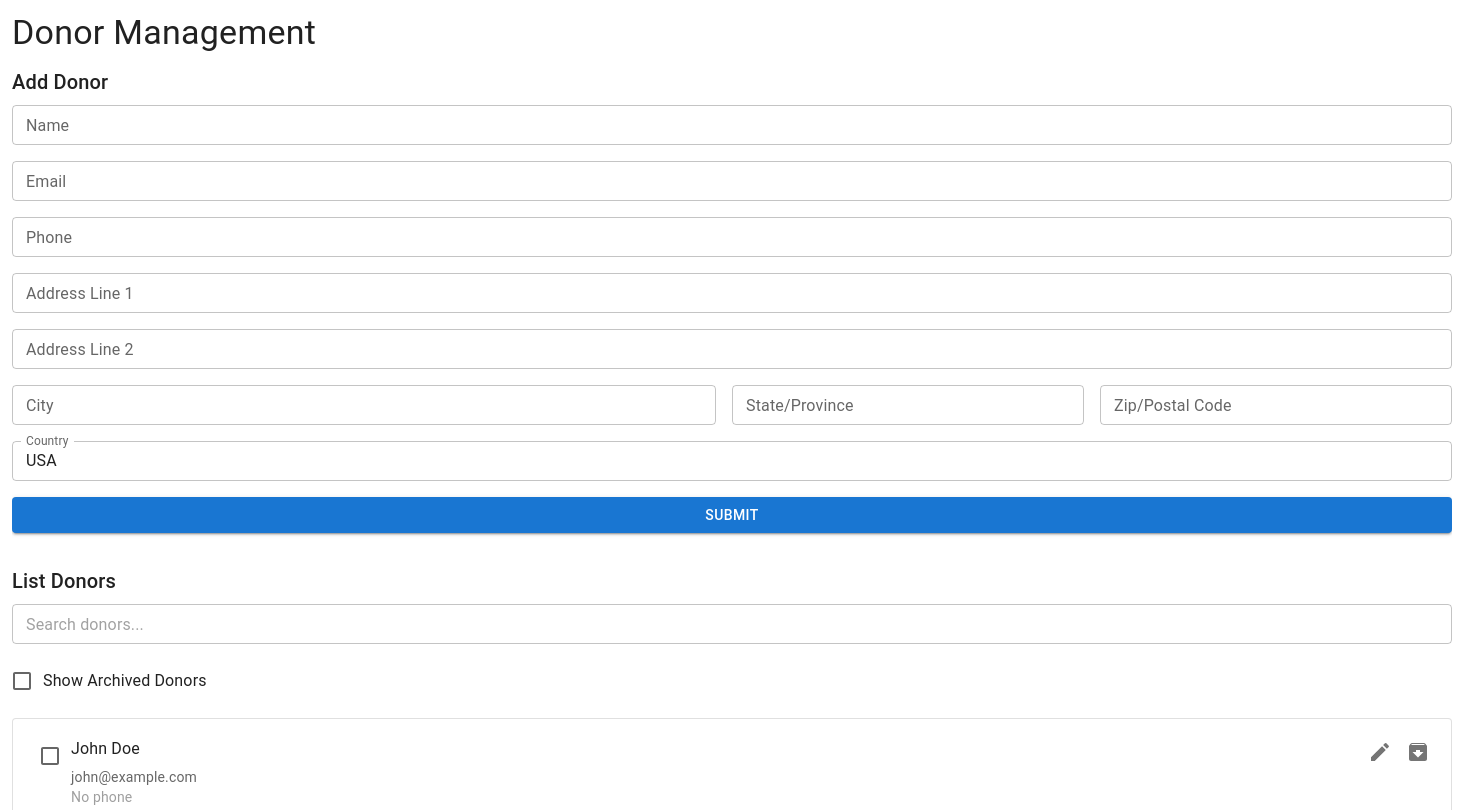
Test case: DonorsPage › Archive error handling › error snackbar closes when user clicks close button
Check: the text "John Doe" is shown, box [71, 735, 140, 763]
Click archive button
Click the button named "archive" at (1418, 752), box [1401, 735, 1435, 769]
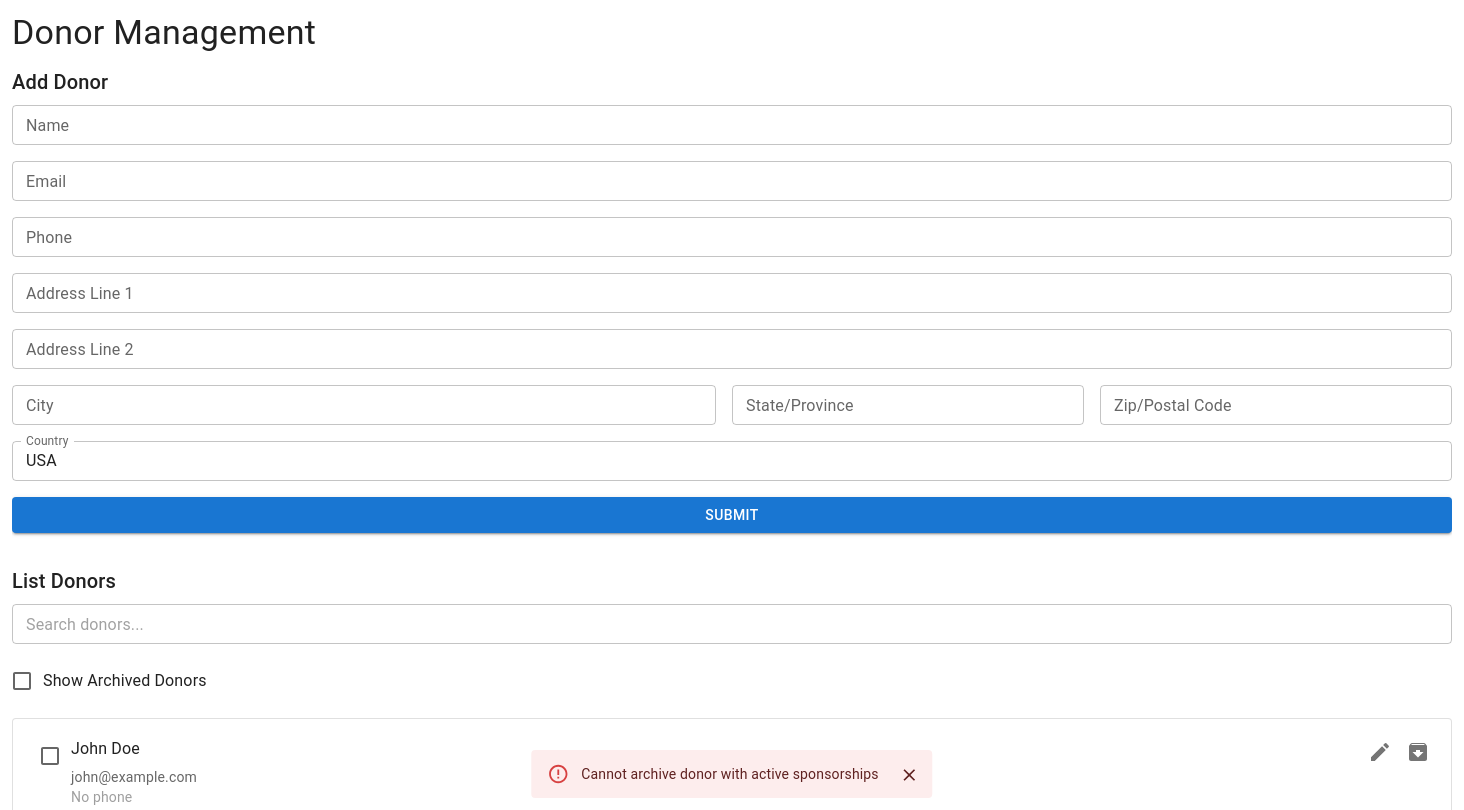
Check: the text "Cannot archive donor with active sponsorships" is shown, box [581, 766, 879, 782]
Click close button on alert
Click the button named "close" at (910, 775), box [895, 760, 925, 790]
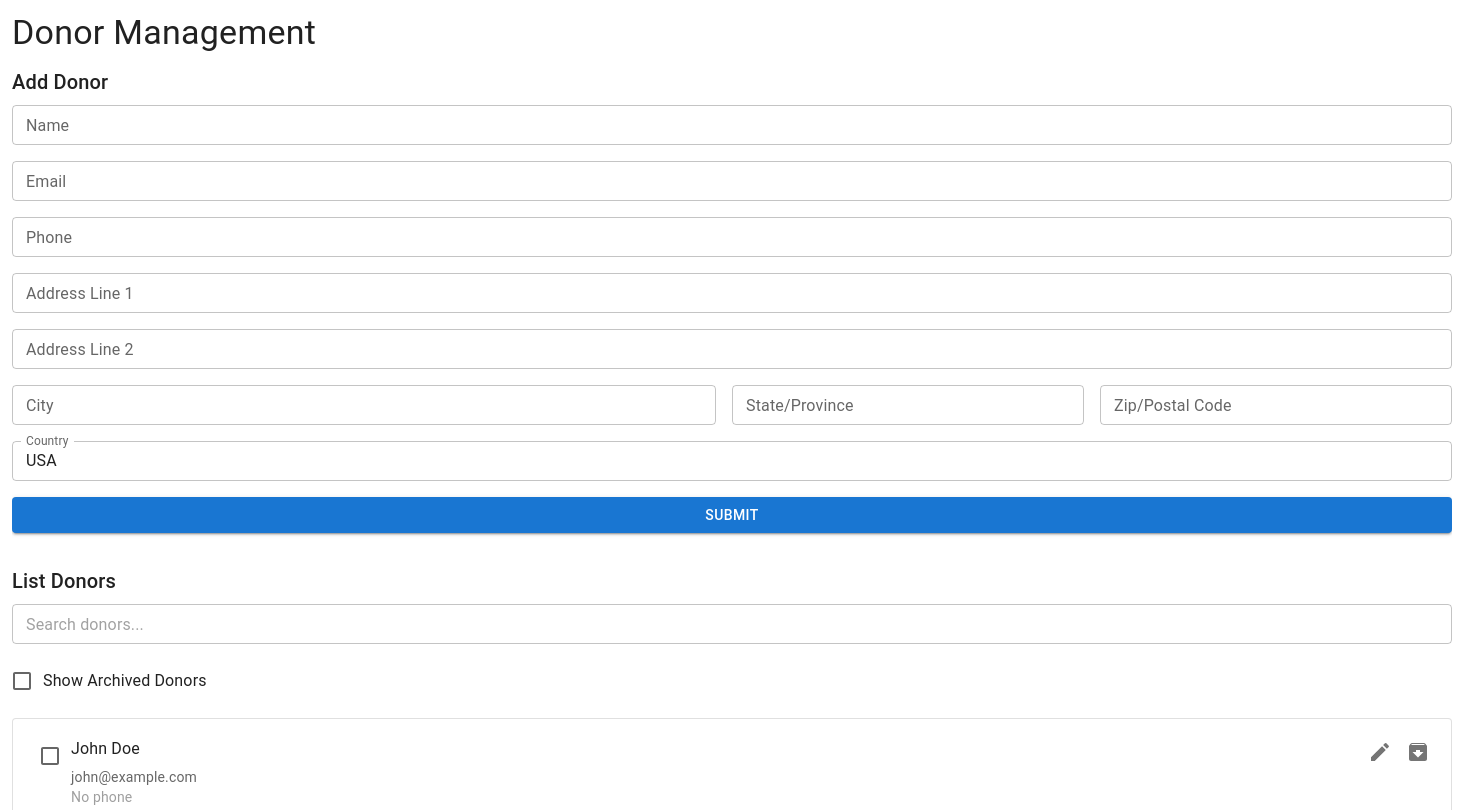
Check: the text "Cannot archive donor with active sponsorships" is gone
